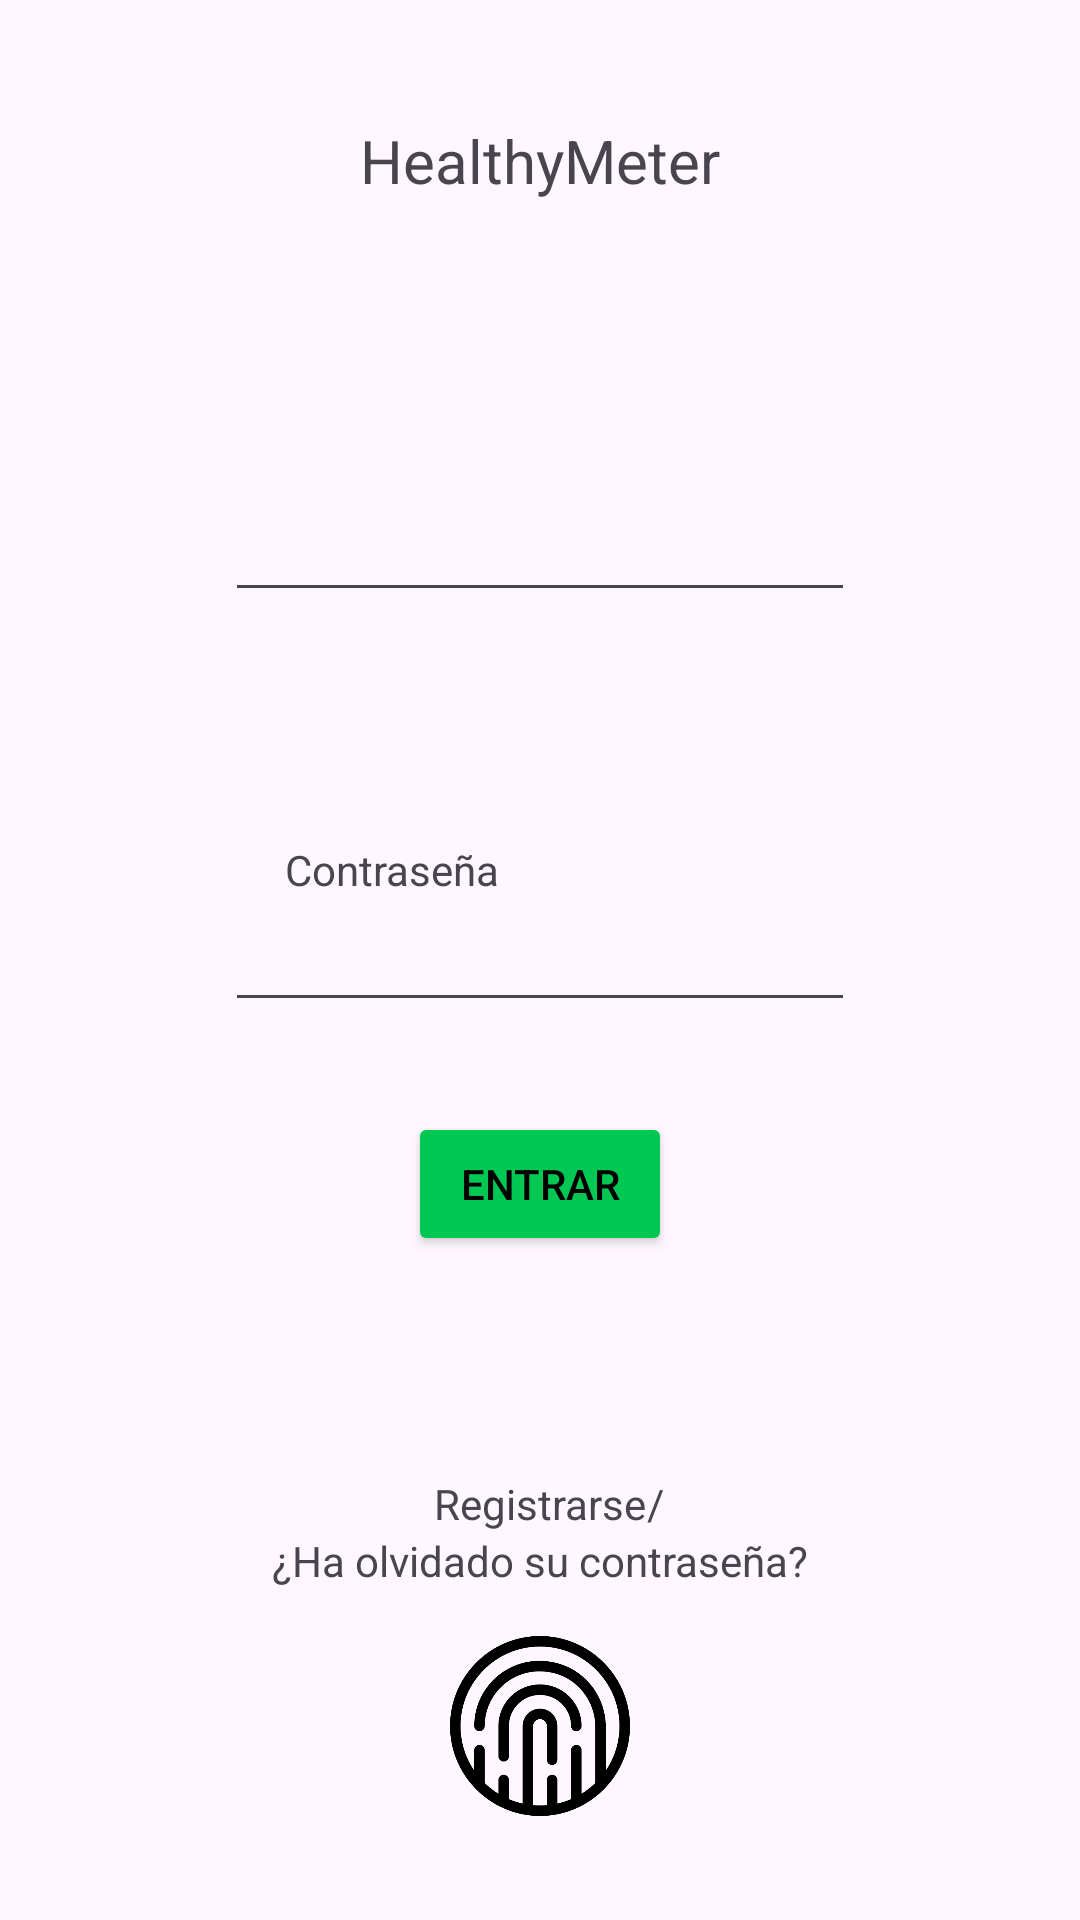

Named icons in this screenshot (1080 x 1920) and their centers, (x=x, y=y):
huella dactilar: (x=540, y=1726)
